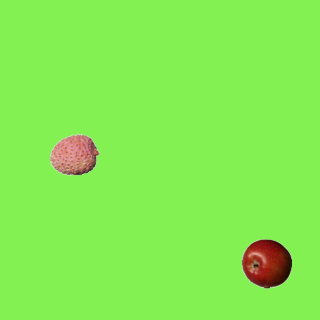Apple Braeburn: (241, 238, 291, 288)
Lychee: (49, 129, 99, 179)
